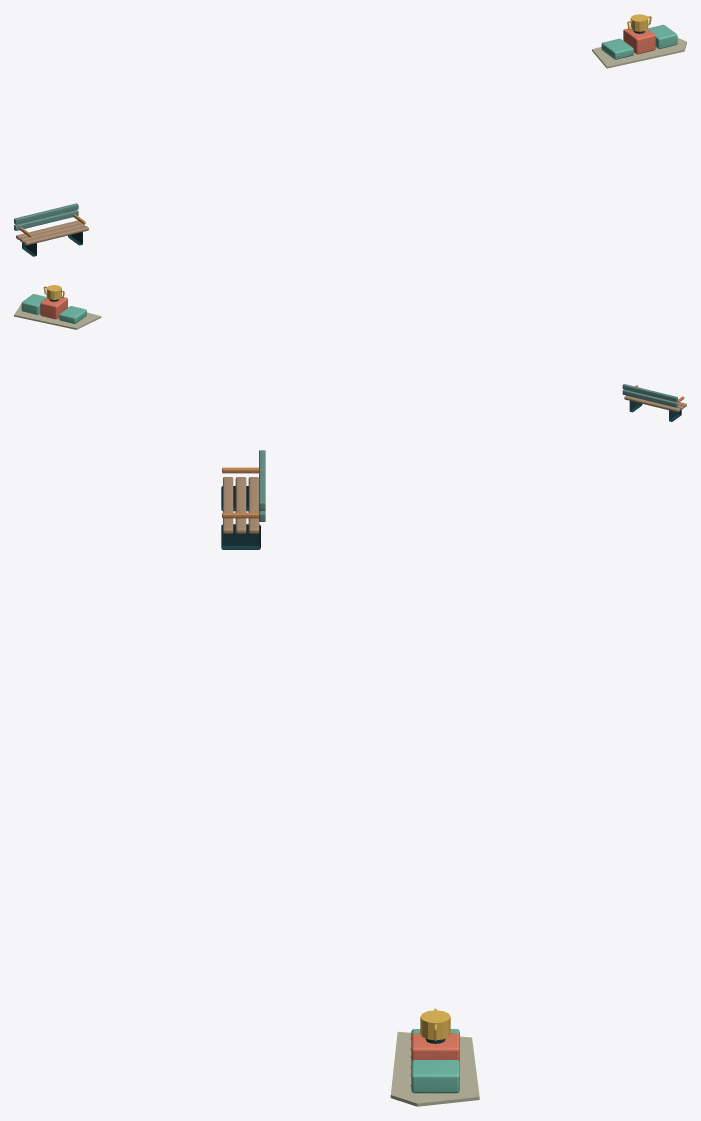
Rendered from squiggle_furniture.glb.
3 renders of one model, top to bottom at view 1: azimuth 30°, elevation 25°; view 2: azimuth 150°, elevation 25°; view 3: azimuth 270°, elevation 25°, orthographic. The views are drawn at different scales.
Visible parts, largest first — view 1: REFINED_BATCH_FURNITURE_Craft_mint_vinyl_NEW_V2, REFINED_BATCH_FURNITURE_REFINED_warm_path_NEW_V2, REFINED_BATCH_FURNITURE_Craft_MOD_sage_shell_NEW_V2, REFINED_BATCH_FURNITURE_REFINED_bench_wood_NEW_V2, REFINED_BATCH_FURNITURE_Craft_coral_vinyl_NEW_V2; view 2: REFINED_BATCH_FURNITURE_Craft_mint_vinyl_NEW_V2, REFINED_BATCH_FURNITURE_REFINED_warm_path_NEW_V2, REFINED_BATCH_FURNITURE_Craft_MOD_sage_shell_NEW_V2, REFINED_BATCH_FURNITURE_Craft_coral_vinyl_NEW_V2, REFINED_BATCH_FURNITURE_REFINED_bench_wood_NEW_V2, REFINED_BATCH_FURNITURE_Craft_ochre_vinyl_NEW_V2, REFINED_BATCH_FURNITURE_Craft_MOD_chassis_dark_NEW_V2; view 3: REFINED_BATCH_FURNITURE_REFINED_warm_path_NEW_V2, REFINED_BATCH_FURNITURE_REFINED_bench_wood_NEW_V2, REFINED_BATCH_FURNITURE_Craft_mint_vinyl_NEW_V2, REFINED_BATCH_FURNITURE_Craft_coral_vinyl_NEW_V2, REFINED_BATCH_FURNITURE_Craft_MOD_chassis_dark_NEW_V2.
Part boxes in pixels (left/top/right/bottom): REFINED_BATCH_FURNITURE_Craft_mint_vinyl_NEW_V2: left=601, top=24, right=677, bottom=59; REFINED_BATCH_FURNITURE_REFINED_warm_path_NEW_V2: left=592, top=38, right=686, bottom=68; REFINED_BATCH_FURNITURE_Craft_MOD_sage_shell_NEW_V2: left=14, top=203, right=78, bottom=230; REFINED_BATCH_FURNITURE_REFINED_bench_wood_NEW_V2: left=16, top=220, right=88, bottom=245; REFINED_BATCH_FURNITURE_Craft_coral_vinyl_NEW_V2: left=623, top=28, right=655, bottom=54; REFINED_BATCH_FURNITURE_Craft_mint_vinyl_NEW_V2: left=21, top=294, right=86, bottom=323; REFINED_BATCH_FURNITURE_REFINED_warm_path_NEW_V2: left=14, top=304, right=101, bottom=329; REFINED_BATCH_FURNITURE_Craft_MOD_sage_shell_NEW_V2: left=622, top=384, right=677, bottom=407; REFINED_BATCH_FURNITURE_Craft_coral_vinyl_NEW_V2: left=40, top=297, right=67, bottom=319; REFINED_BATCH_FURNITURE_REFINED_bench_wood_NEW_V2: left=624, top=395, right=686, bottom=412; REFINED_BATCH_FURNITURE_Craft_ochre_vinyl_NEW_V2: left=43, top=285, right=64, bottom=299; REFINED_BATCH_FURNITURE_Craft_MOD_chassis_dark_NEW_V2: left=49, top=299, right=681, bottom=421; REFINED_BATCH_FURNITURE_REFINED_warm_path_NEW_V2: left=390, top=1031, right=479, bottom=1106; REFINED_BATCH_FURNITURE_REFINED_bench_wood_NEW_V2: left=223, top=477, right=259, bottom=533; REFINED_BATCH_FURNITURE_Craft_mint_vinyl_NEW_V2: left=411, top=1029, right=459, bottom=1093; REFINED_BATCH_FURNITURE_Craft_coral_vinyl_NEW_V2: left=411, top=1033, right=459, bottom=1062; REFINED_BATCH_FURNITURE_Craft_MOD_chassis_dark_NEW_V2: left=221, top=486, right=445, bottom=1043.
Bounding box in the file's own units: 18.72 × 0.81 × 3.4.
